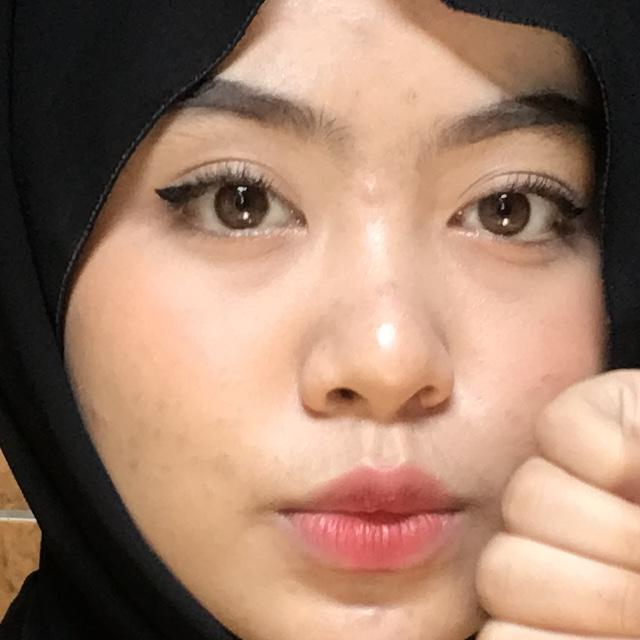sedih: (280, 296, 640, 640)
